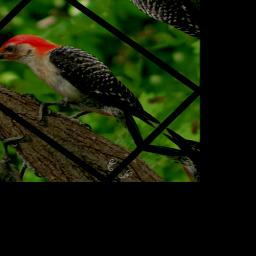Woodpecker: (0, 10, 175, 175)
